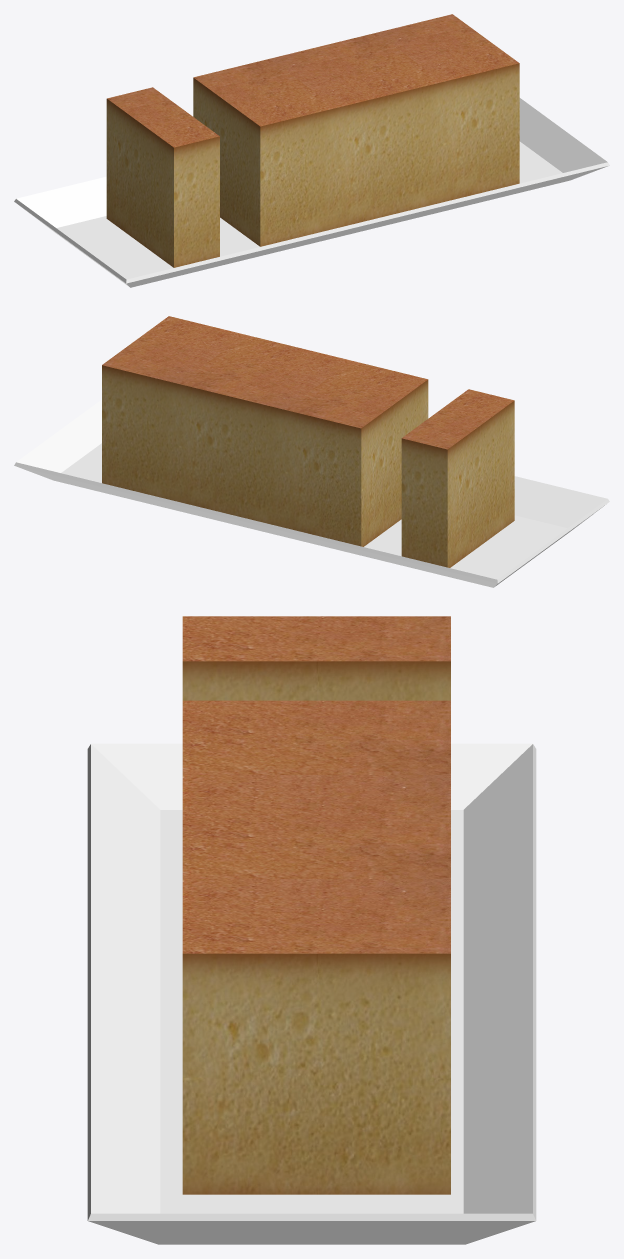
File: pastel.glb
3 views of the same model, one above another, from view 1: azimuth 30°, elevation 25°; view 2: azimuth 150°, elevation 25°; view 3: azimuth 270°, elevation 25° (orthographic). The views are drawn at different scales.
Visible parts, largest first — view 1: Box003, Box001, Plane001, Box002; view 2: Box003, Box001, Plane001, Box002; view 3: Box003, Plane001, Box001, Box002.
Boxes of the visible parts, box(x1,y1,x2,y2) form: Box003: box(194, 14, 519, 245); Box001: box(106, 87, 219, 267); Plane001: box(14, 98, 609, 287); Box002: box(193, 68, 306, 246); Box003: box(102, 316, 425, 545); Box001: box(401, 389, 514, 567); Plane001: box(14, 399, 609, 587); Box002: box(315, 369, 428, 546); Box003: box(182, 700, 450, 1194); Plane001: box(87, 743, 536, 1244); Box001: box(182, 616, 450, 700); Box002: box(182, 700, 450, 745).
Bounding box in the file's own units: 208 × 50.85 × 83.53.
3 materials, 2 textured.
